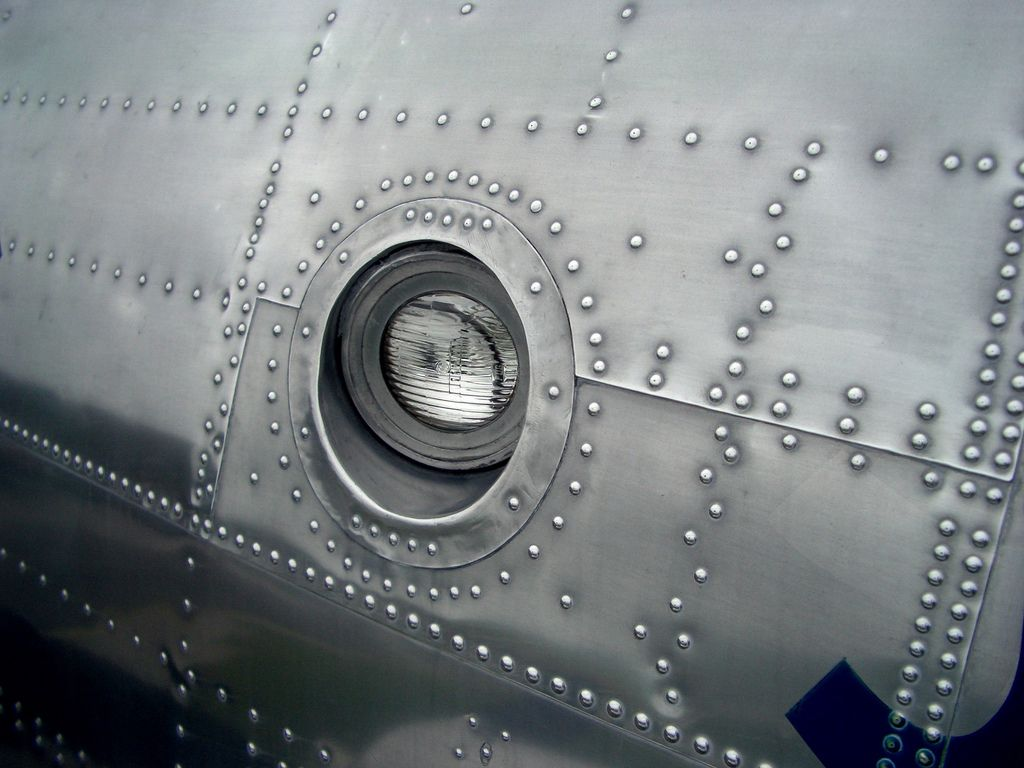rivet: (722, 747, 742, 768), (771, 399, 791, 420), (633, 709, 651, 732), (932, 542, 952, 562), (958, 480, 978, 500), (607, 698, 626, 719), (938, 517, 957, 538), (1002, 422, 1021, 443), (692, 733, 709, 756), (963, 555, 983, 574), (985, 486, 1004, 506), (837, 417, 857, 436), (663, 722, 681, 743), (963, 444, 981, 465), (847, 385, 865, 406), (579, 688, 595, 711), (919, 592, 938, 611), (950, 603, 969, 622), (925, 567, 944, 586), (993, 451, 1012, 470), (780, 433, 799, 452), (550, 676, 568, 696), (914, 615, 932, 635), (971, 529, 989, 549), (918, 401, 936, 421), (849, 453, 867, 473), (927, 703, 945, 722), (939, 653, 958, 671), (960, 580, 978, 599), (910, 432, 928, 451), (693, 566, 710, 586), (999, 263, 1019, 280), (734, 392, 751, 412), (475, 642, 491, 663), (901, 666, 919, 684), (946, 627, 964, 645), (781, 371, 799, 389), (727, 360, 745, 378), (499, 654, 516, 673), (632, 623, 649, 642), (758, 297, 775, 316), (450, 631, 466, 651), (525, 665, 541, 685), (976, 157, 993, 175), (941, 155, 959, 172), (908, 640, 925, 658), (1006, 398, 1024, 415), (994, 287, 1012, 304), (923, 471, 940, 489), (767, 201, 784, 219), (873, 148, 890, 166), (656, 657, 672, 676), (683, 527, 699, 546), (1007, 217, 1024, 234), (936, 680, 953, 697), (990, 312, 1007, 329), (984, 342, 1001, 359), (974, 394, 991, 411), (970, 420, 987, 437), (723, 248, 740, 265), (775, 234, 792, 251), (676, 633, 692, 651), (709, 503, 725, 521), (591, 358, 607, 376), (978, 369, 996, 385), (708, 385, 724, 403), (791, 168, 809, 184), (428, 620, 442, 640), (1004, 241, 1021, 257), (896, 689, 912, 706), (698, 468, 715, 484), (723, 447, 739, 464), (735, 325, 751, 342), (498, 569, 513, 587), (527, 543, 542, 561), (559, 593, 574, 611), (670, 595, 684, 614), (1011, 373, 1024, 393), (588, 332, 604, 348), (528, 199, 544, 215), (648, 374, 664, 390), (751, 263, 767, 279), (805, 141, 821, 157), (656, 345, 671, 362), (714, 425, 729, 442), (568, 480, 582, 498), (365, 592, 378, 611), (407, 610, 420, 629), (588, 399, 601, 418), (574, 124, 590, 139), (1012, 192, 1024, 212), (76, 747, 90, 764), (385, 602, 399, 619), (470, 583, 484, 600), (507, 496, 521, 513), (579, 441, 593, 458), (278, 453, 292, 470), (604, 49, 619, 64), (684, 131, 699, 146), (743, 136, 758, 151), (318, 747, 332, 763), (281, 726, 295, 742), (247, 707, 261, 723), (552, 515, 566, 531), (547, 385, 561, 401), (467, 173, 481, 189), (630, 234, 644, 250), (666, 688, 679, 705), (269, 419, 282, 436), (550, 219, 563, 236), (447, 168, 460, 185), (287, 556, 299, 574), (345, 584, 357, 602), (425, 543, 439, 558), (580, 296, 594, 311), (246, 740, 259, 756), (158, 649, 171, 665), (488, 181, 501, 197), (59, 587, 71, 604), (305, 566, 317, 583), (311, 44, 323, 61), (187, 668, 198, 686), (266, 390, 280, 404), (566, 260, 580, 274), (422, 170, 435, 185), (627, 128, 642, 141), (217, 525, 229, 541), (268, 357, 280, 373), (235, 533, 246, 550), (324, 574, 335, 591), (351, 513, 362, 530), (292, 486, 303, 503), (248, 232, 261, 246), (281, 286, 294, 300), (296, 259, 309, 273), (460, 2, 473, 16), (480, 218, 493, 232), (530, 282, 543, 296), (354, 198, 367, 212), (589, 96, 602, 110), (53, 730, 65, 745), (216, 688, 228, 703), (178, 640, 190, 655), (405, 584, 417, 599), (343, 556, 355, 571), (236, 322, 248, 337), (271, 322, 283, 337), (402, 174, 414, 189), (203, 519, 214, 535), (252, 541, 263, 557), (270, 550, 281, 566), (429, 586, 440, 602), (309, 518, 320, 534), (82, 601, 92, 618), (191, 512, 201, 529), (395, 111, 408, 124), (436, 113, 449, 126), (526, 120, 539, 133), (174, 723, 186, 737), (326, 539, 338, 553), (300, 325, 312, 339), (244, 247, 256, 261), (256, 281, 268, 295), (265, 183, 277, 197), (282, 126, 294, 140), (380, 178, 392, 192), (309, 191, 321, 205), (357, 108, 369, 122), (55, 752, 66, 767), (178, 683, 189, 698), (449, 586, 460, 601), (407, 538, 418, 553), (249, 470, 260, 485), (509, 189, 520, 204), (301, 425, 311, 441), (325, 11, 337, 24), (441, 215, 453, 228), (621, 7, 633, 20), (192, 288, 203, 302), (255, 199, 269, 210), (297, 81, 308, 95), (315, 237, 326, 251), (331, 220, 342, 234), (322, 107, 333, 121), (160, 497, 170, 512), (186, 555, 196, 570), (362, 569, 372, 584), (33, 734, 45, 746), (18, 562, 30, 574), (174, 501, 183, 517), (270, 163, 282, 175), (338, 251, 350, 263), (480, 118, 492, 130), (1016, 349, 1024, 367), (130, 633, 141, 646), (254, 216, 265, 229), (84, 459, 94, 473), (96, 466, 106, 480), (482, 745, 492, 759), (384, 578, 394, 592), (220, 402, 230, 416), (164, 280, 174, 294), (454, 747, 465, 759), (241, 302, 252, 314), (198, 102, 209, 114), (423, 212, 434, 224), (501, 729, 511, 742), (214, 372, 224, 385), (230, 355, 240, 368), (138, 273, 148, 286), (221, 294, 231, 307), (238, 277, 248, 290), (463, 218, 473, 231), (107, 618, 116, 632), (134, 483, 143, 497), (147, 489, 156, 503), (389, 533, 398, 547), (370, 525, 379, 539), (226, 105, 237, 116), (405, 210, 416, 221), (13, 700, 23, 712), (74, 454, 82, 469), (468, 716, 478, 728), (38, 94, 48, 106), (257, 105, 267, 117), (288, 105, 298, 117), (63, 449, 72, 462), (2, 418, 11, 431), (108, 471, 117, 484), (206, 483, 215, 496), (39, 574, 47, 588), (67, 257, 77, 268), (33, 715, 42, 727), (42, 437, 51, 449), (214, 439, 223, 451), (47, 250, 56, 262), (90, 261, 99, 273), (101, 97, 110, 109), (21, 428, 29, 441), (13, 423, 21, 436), (26, 246, 36, 256), (15, 718, 24, 729), (201, 453, 210, 464), (59, 96, 68, 107), (80, 96, 89, 107), (173, 101, 182, 112), (53, 444, 61, 456), (195, 487, 203, 499), (205, 420, 213, 432), (224, 325, 232, 337), (9, 240, 17, 252), (114, 268, 122, 280), (1, 547, 8, 560), (122, 477, 129, 490), (198, 469, 206, 480), (21, 94, 29, 105), (147, 101, 155, 112), (33, 434, 40, 446), (3, 92, 11, 102), (123, 99, 131, 109), (184, 598, 191, 609)
